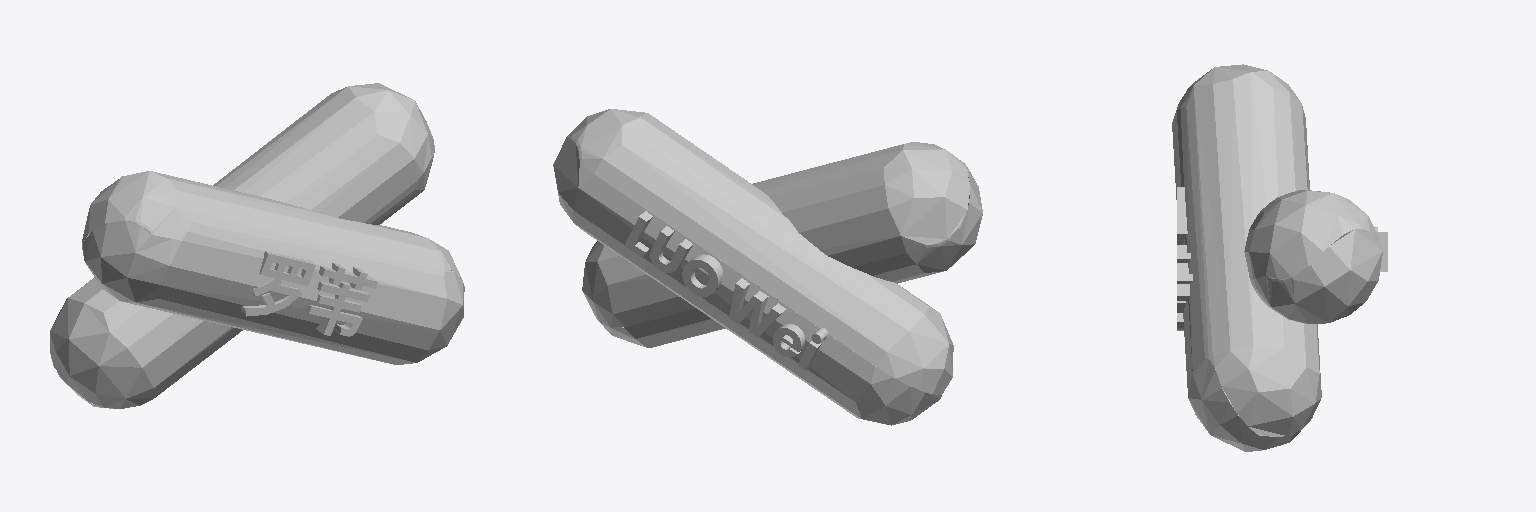
File: LuoWei.obj
3 renders of one model, left to right at view 1: azimuth 30°, elevation 25°; view 2: azimuth 150°, elevation 25°; view 3: azimuth 270°, elevation 25°, orthographic.
Visible parts, largest first — view 1: root_3, root_2, node_id539; view 2: root_2, root_3, node_id550; view 3: root_3, root_2, node_id539.
Boxes of the visible parts, <box> form: root_3: <box>82,171,464,364</box>; root_2: <box>50,83,434,408</box>; node_id539: <box>240,251,377,336</box>; root_2: <box>553,109,953,425</box>; root_3: <box>582,142,982,347</box>; node_id550: <box>624,211,827,370</box>; root_3: <box>1172,64,1321,451</box>; root_2: <box>1244,190,1382,323</box>; node_id539: <box>1177,187,1192,330</box>.
Bounding box in the file's own units: 0.289 × 0.1836 × 0.1435.